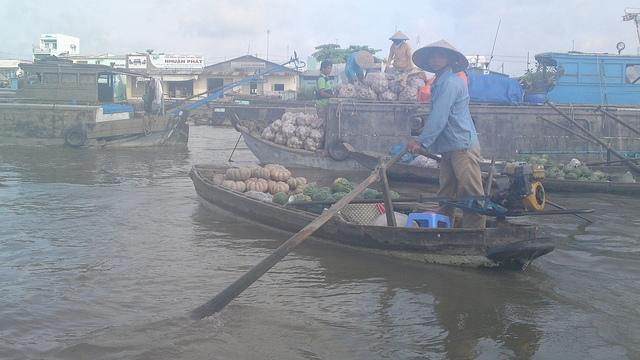watermelon: (332, 178, 352, 194), (302, 184, 320, 198), (272, 192, 289, 205), (312, 192, 327, 201), (317, 187, 335, 194), (364, 189, 376, 199), (296, 195, 312, 202), (570, 168, 582, 177), (592, 172, 606, 179), (545, 170, 557, 178), (566, 172, 578, 180), (562, 166, 574, 174), (294, 185, 304, 194), (332, 192, 348, 197), (555, 162, 564, 170), (348, 183, 358, 190), (548, 166, 559, 172), (587, 176, 600, 181), (527, 157, 540, 162), (556, 172, 566, 178), (293, 194, 301, 201), (376, 192, 384, 199), (541, 154, 550, 160), (592, 170, 602, 173)
